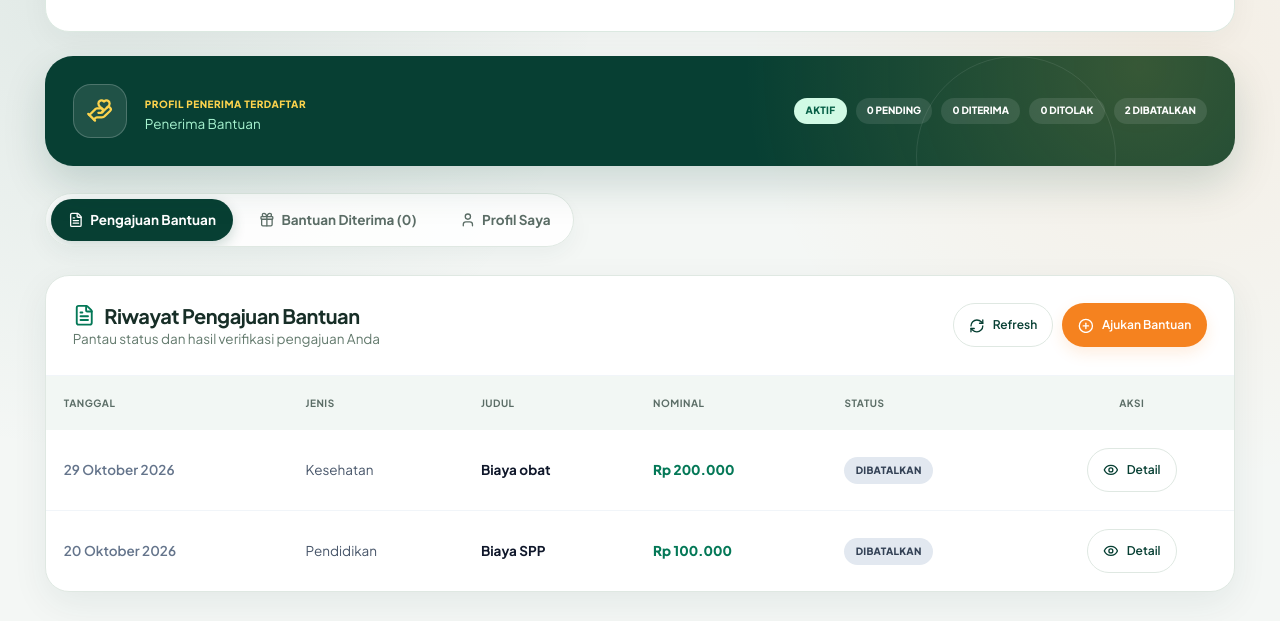
Test case: notifikasi setelah mengirim pengajuan dapat ditutup
(page scrolled)
Click the button "Ajukan Bantuan".
click(1135, 325)  # box [1062,303,1207,347]
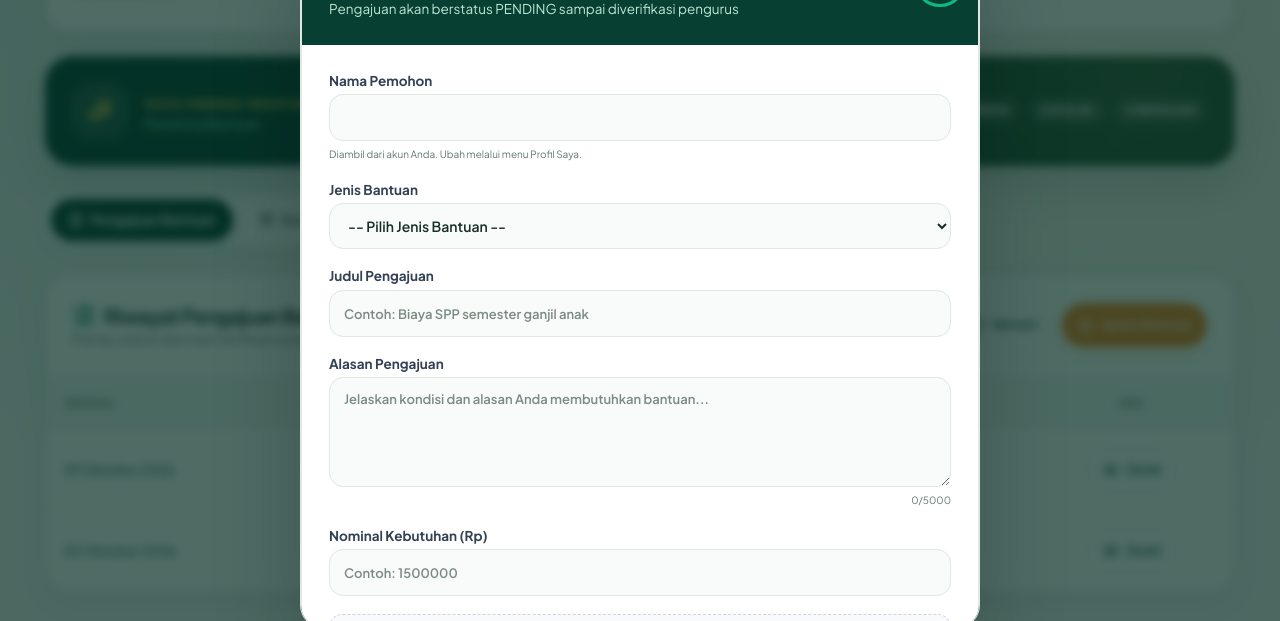
Select "Pendidikan" in the dropdown labelled "Jenis Bantuan" at (640, 226), box [329,203,951,249]
Type "Biaya sekolah anak" into the field labelled "Judul Pengajuan".
click(640, 313); type("Biaya sekolah anak")  # box [329,290,951,336]
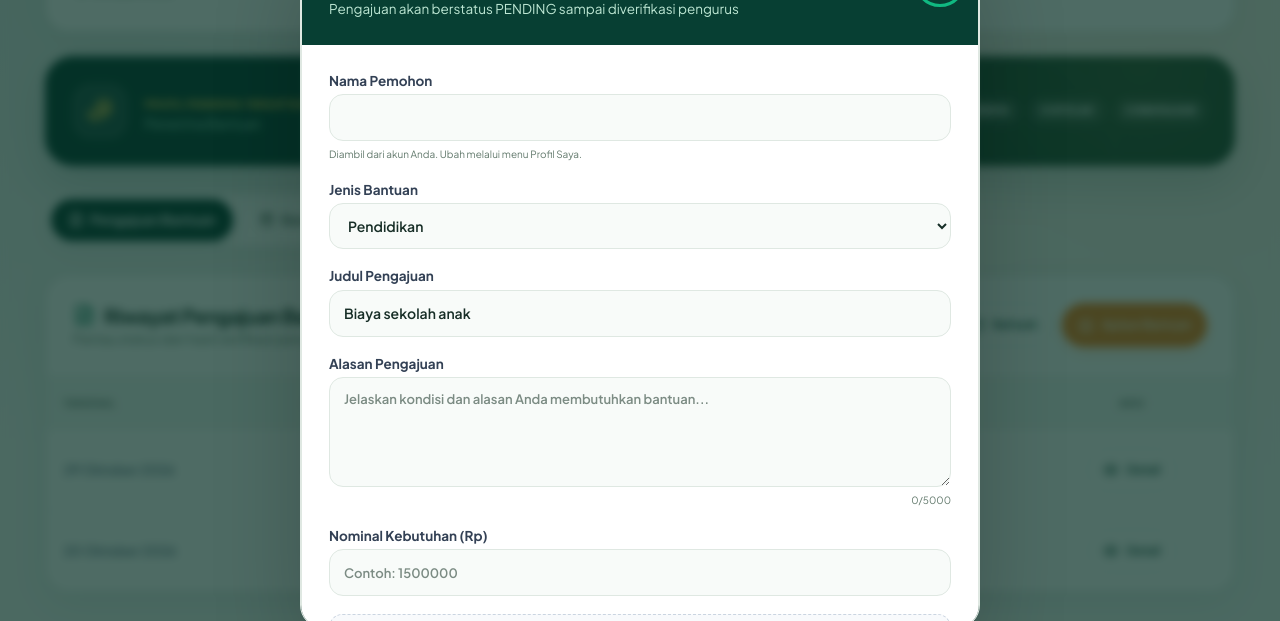
Type "Membutuhkan bantuan untuk biaya sekolah semester ini." into the text box labelled "Alasan Pengajuan".
click(640, 432); type("Membutuhkan bantuan untuk biaya sekolah semester ini.")  # box [329,377,951,487]
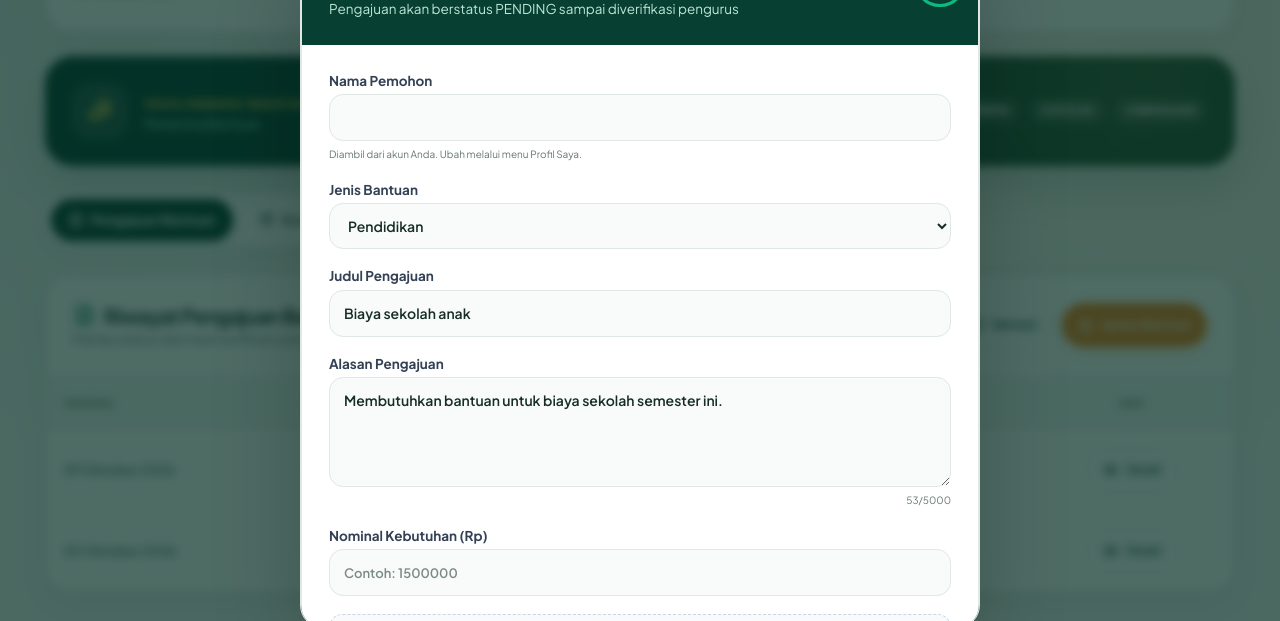
Type "100000" into the number field labelled "Nominal Kebutuhan (Rp)".
click(640, 572); type("100000")  # box [329,549,951,596]
(page scrolled)
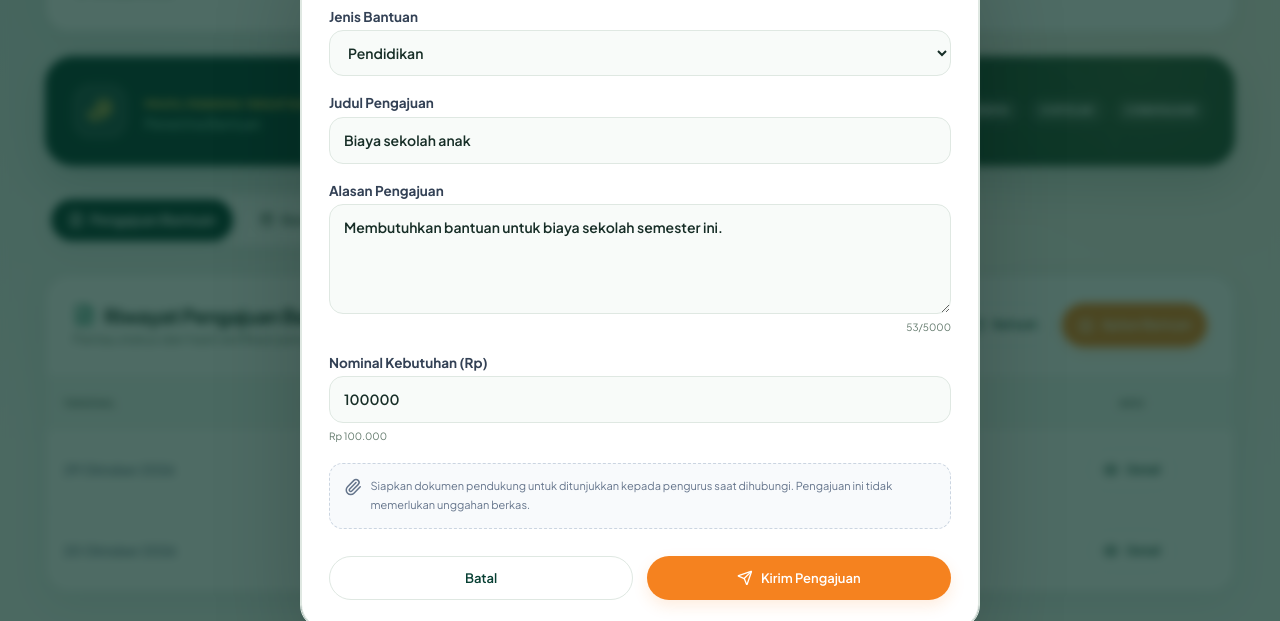
Click the button "Kirim Pengajuan".
click(799, 578)  # box [647,556,951,600]
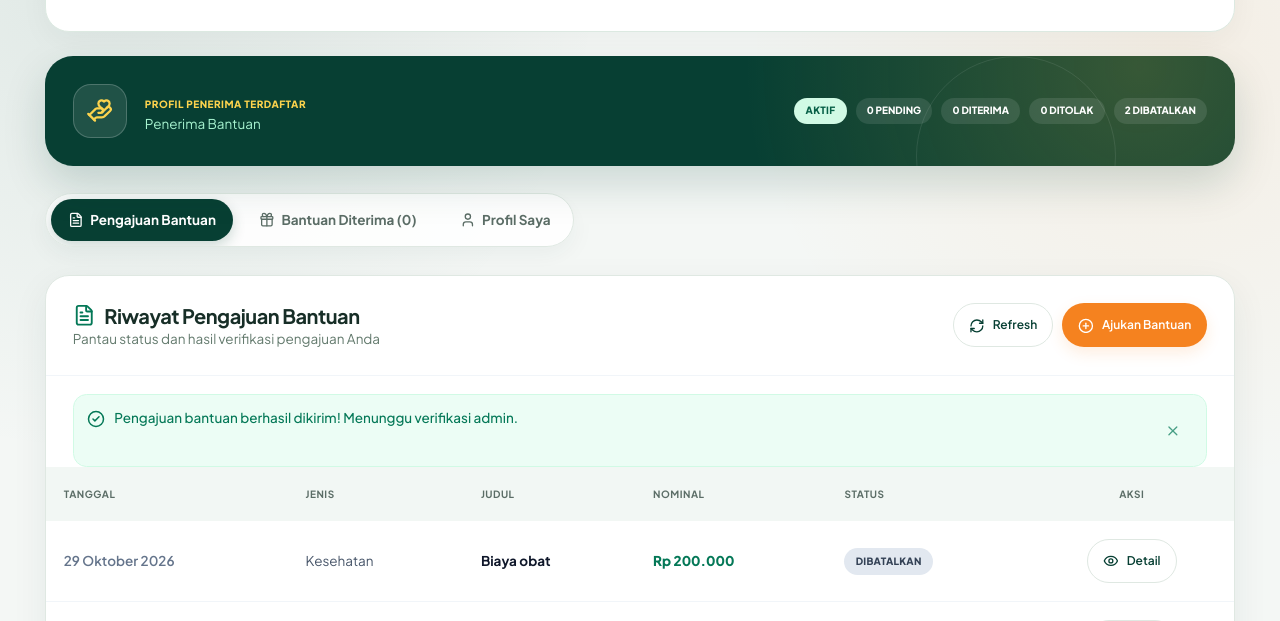
Check: the text "Pengajuan bantuan berhasil dikirim! Menunggu verifikasi admin." is shown, box [114,408,518,426]
Click the button named "Tutup notifikasi".
click(1172, 430)  # box [1152,408,1193,452]
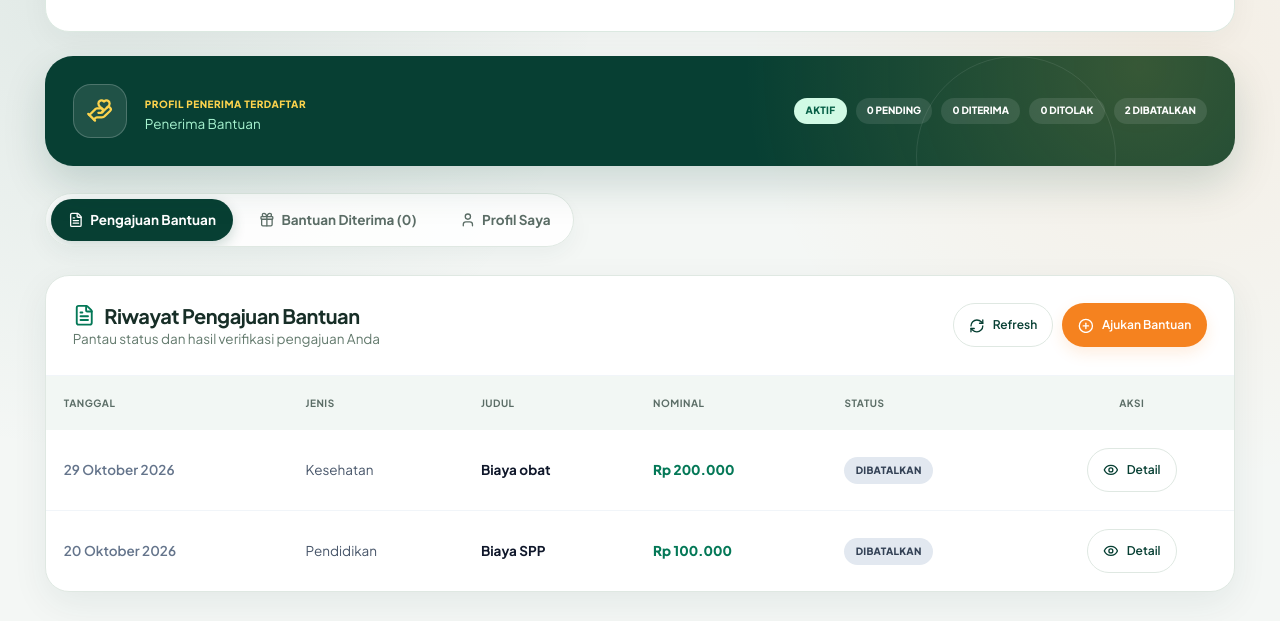
Check: the text "Pengajuan bantuan berhasil dikirim! Menunggu verifikasi admin." is gone
